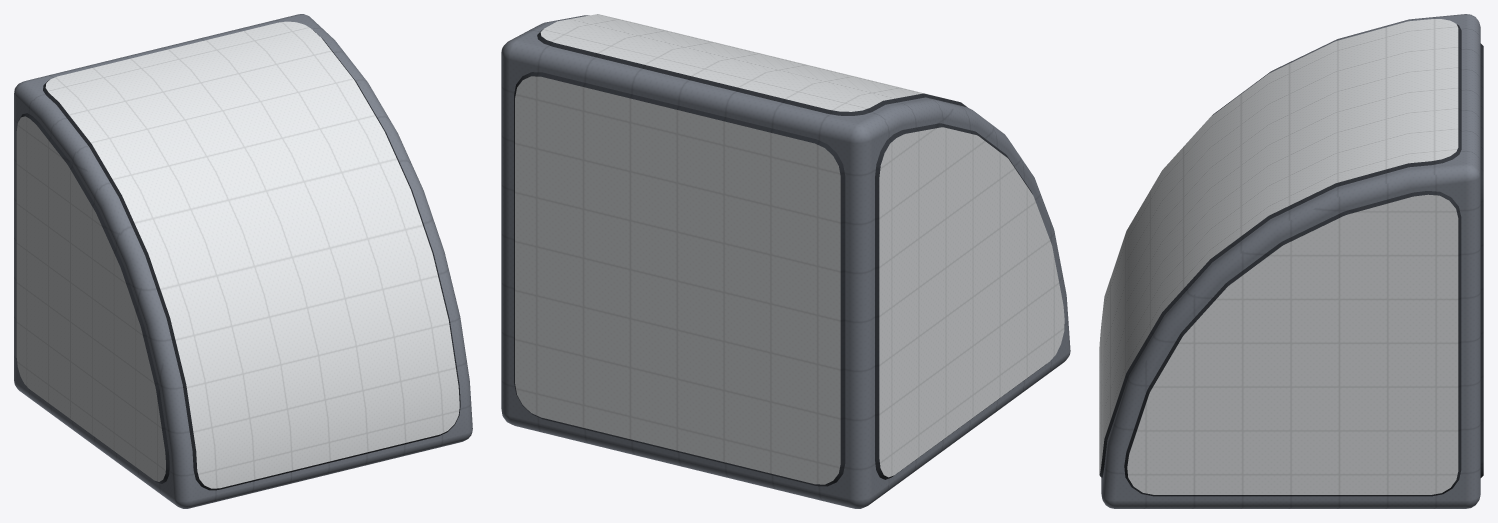
The model's file is R4B_RoundEdge.glb.
The picture shows the model from 3 angles, left to right: view 1: azimuth 30°, elevation 25°; view 2: azimuth 150°, elevation 25°; view 3: azimuth 270°, elevation 25°; orthographic projection. The views are drawn at different scales.
Visible parts, largest first — view 1: R4B_RoundEdge; view 2: R4B_RoundEdge; view 3: R4B_RoundEdge.
Part boxes in pixels (bbox=[...]): R4B_RoundEdge: bbox=[14, 14, 472, 508]; R4B_RoundEdge: bbox=[501, 14, 1070, 508]; R4B_RoundEdge: bbox=[1099, 14, 1483, 508].
Size of the model in its own units: 0.52 by 0.5169 by 0.5169.
Materials: 3 (3 with a texture image).
